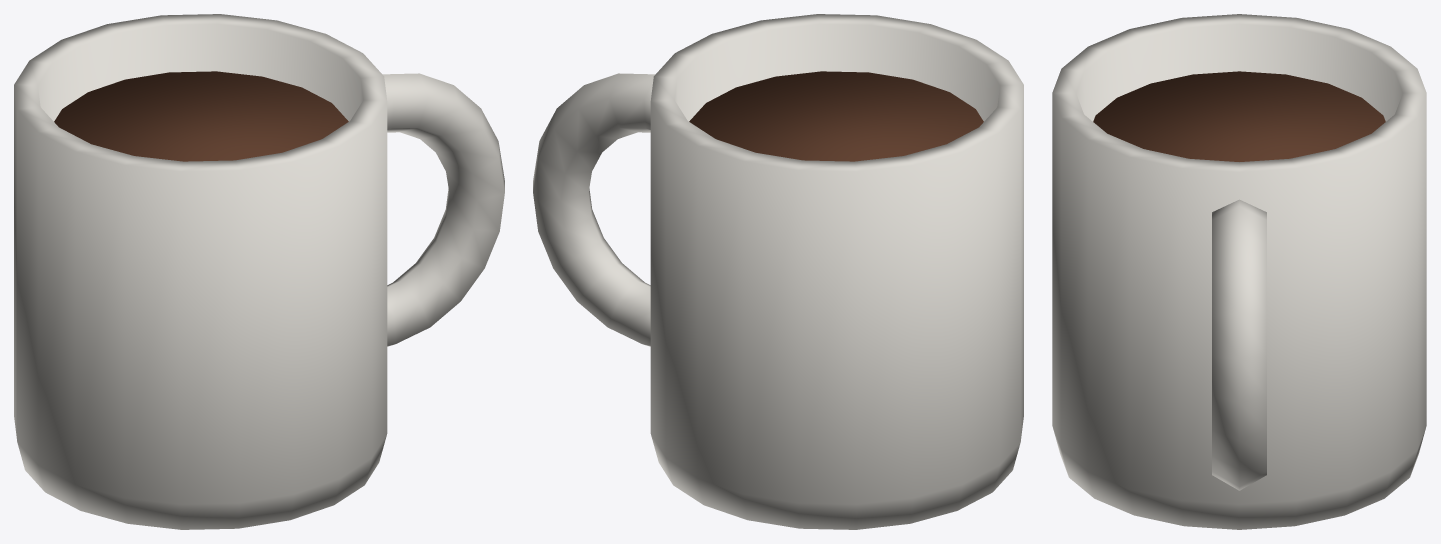
File: Mug.fbx
3 views of the same model, side by side, from view 1: azimuth 30°, elevation 25°; view 2: azimuth 150°, elevation 25°; view 3: azimuth 270°, elevation 25° (orthographic).
Parts seen in each view (by area): view 1: MugBody, Coffee; view 2: MugBody, Coffee; view 3: MugBody, Coffee.
Part boxes in pixels (bbox=[...]): MugBody: bbox=[14, 14, 504, 529]; Coffee: bbox=[54, 71, 348, 161]; MugBody: bbox=[533, 14, 1023, 529]; Coffee: bbox=[689, 71, 983, 161]; MugBody: bbox=[1052, 14, 1426, 529]; Coffee: bbox=[1093, 71, 1385, 161].
Bounding box in the file's own units: 0.1755 × 0.13 × 0.1222.
